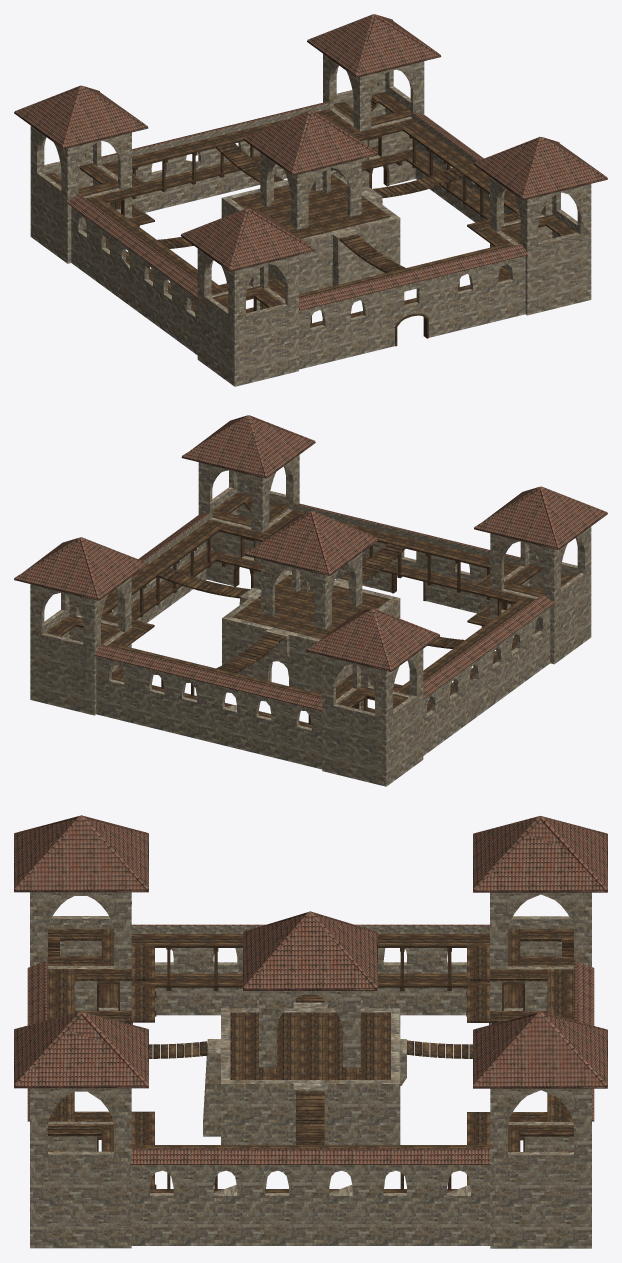
File: Fort_Spartan.DAE
3 renders of one model, top to bottom at view 1: azimuth 30°, elevation 25°; view 2: azimuth 150°, elevation 25°; view 3: azimuth 270°, elevation 25°, orthographic. The views are drawn at different scales.
Parts seen in each view (by area): view 1: fort_stone900, fort_stone600, fort_wood900, fort_posts900; view 2: fort_stone900, fort_stone600, fort_wood900, fort_posts900; view 3: fort_stone900, fort_stone600, fort_wood900, fort_posts900.
Boxes of the visible parts, <box> form: fort_stone900: <box>15,14,607,386</box>; fort_stone600: <box>14,14,605,384</box>; fort_wood900: <box>45,91,576,327</box>; fort_posts900: <box>106,135,483,324</box>; fort_stone900: <box>14,415,607,786</box>; fort_stone600: <box>14,416,605,783</box>; fort_wood900: <box>45,492,576,727</box>; fort_posts900: <box>107,538,515,724</box>; fort_stone900: <box>14,815,607,1248</box>; fort_stone600: <box>14,817,607,1246</box>; fort_wood900: <box>47,929,574,1192</box>; fort_posts900: <box>127,948,496,1190</box>.
Size of the model in its own units: 6356 by 6294 by 2528.
